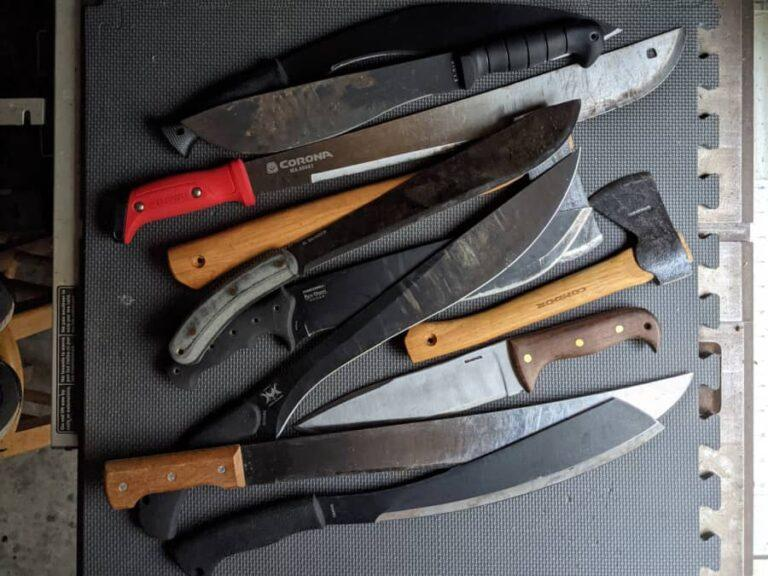facao: (123, 143, 589, 538), (141, 91, 592, 398), (91, 13, 700, 214), (152, 383, 686, 576), (96, 362, 703, 517)
